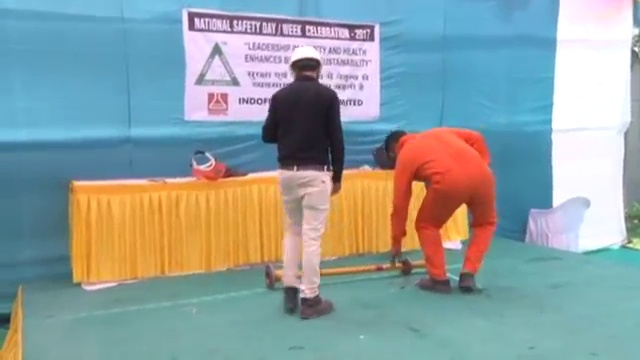helmet: (287, 45, 323, 70)
helmet_off: (385, 128, 410, 161)
helmet_on: (286, 43, 324, 81)
person: (261, 43, 346, 321), (383, 128, 498, 300)
